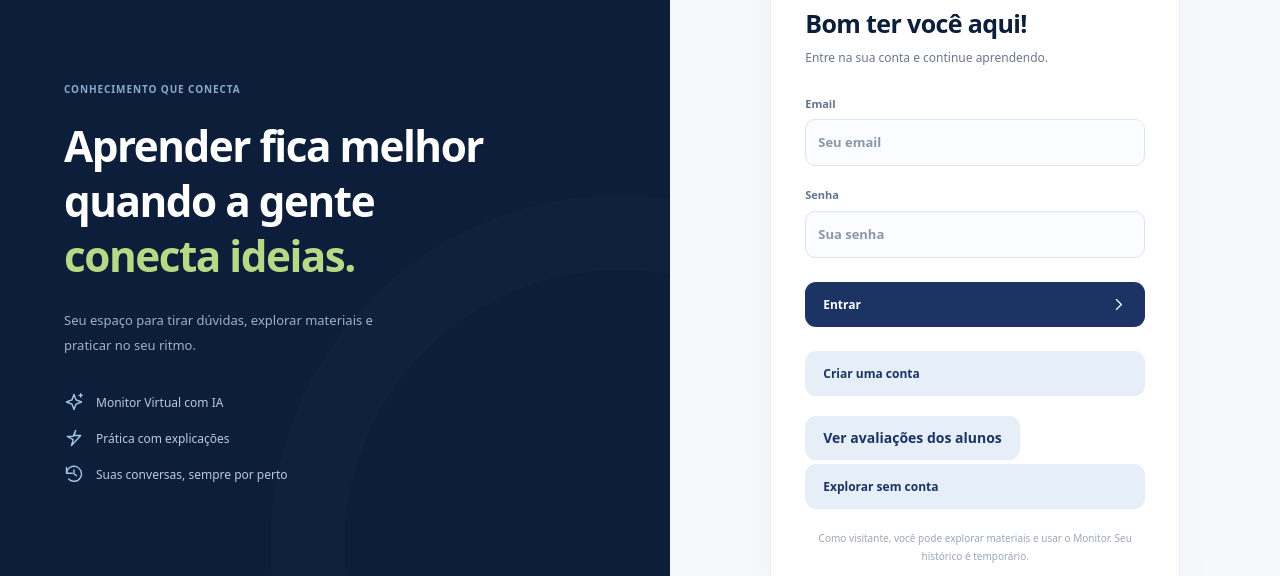
Test: permite explorar materiais e Monitor sem conta, sem mostrar funções restritas
Click the button "Explorar sem conta": (881, 487) x1=805 y1=464 x2=1145 y2=509
(page scrolled)
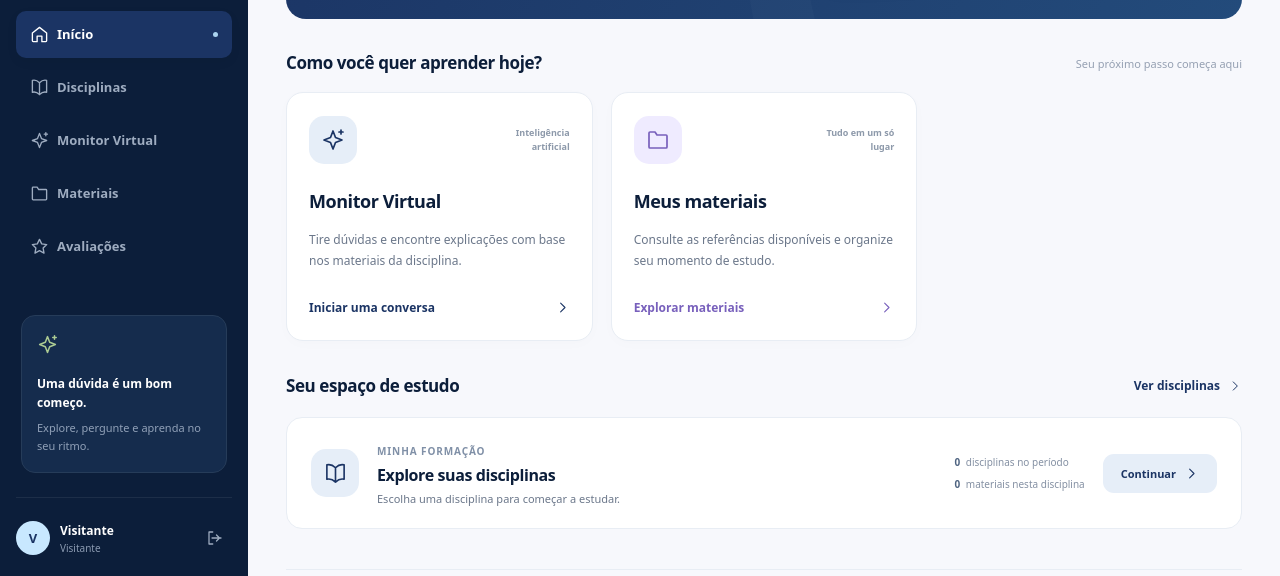
Check: the text "praticar" is gone
Click the button named "Explorar materiais": (658, 140) x1=611 y1=92 x2=917 y2=341
(page scrolled)
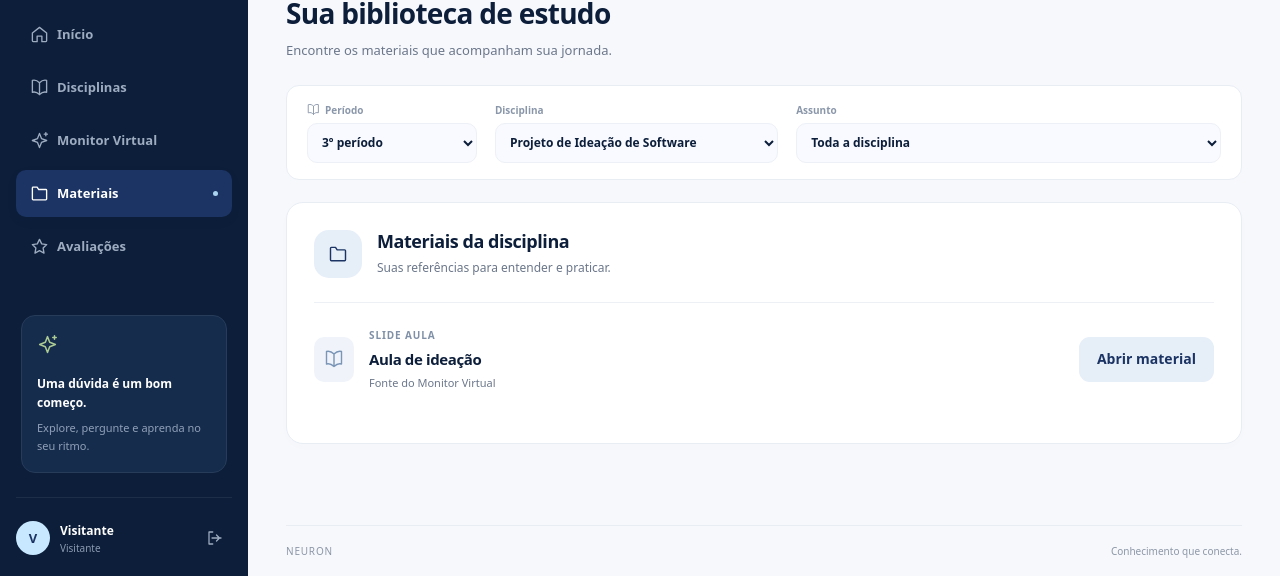
Check: the link with aria-label "Abrir Aula de ideação" has attribute href="/api/v1/materiais/83/arquivo", box x1=1079 y1=337 x2=1214 y2=382
Click the button "Monitor Virtual": (124, 141) x1=16 y1=117 x2=232 y2=164
(page scrolled)
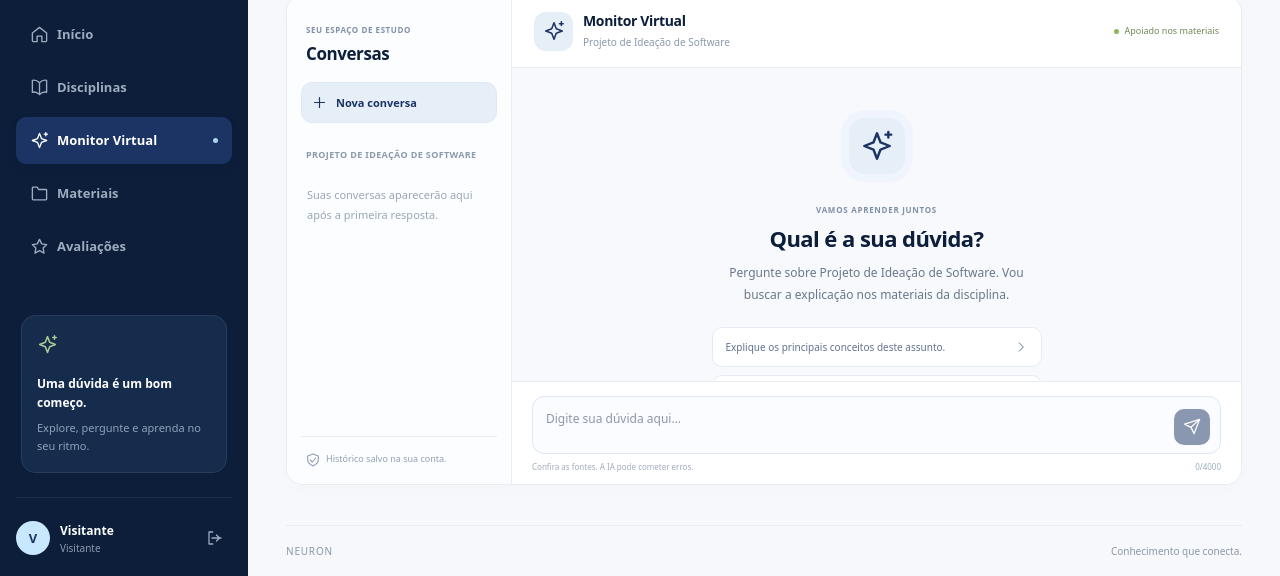
Check: the text box is enabled, box x1=546 y1=405 x2=1166 y2=445
